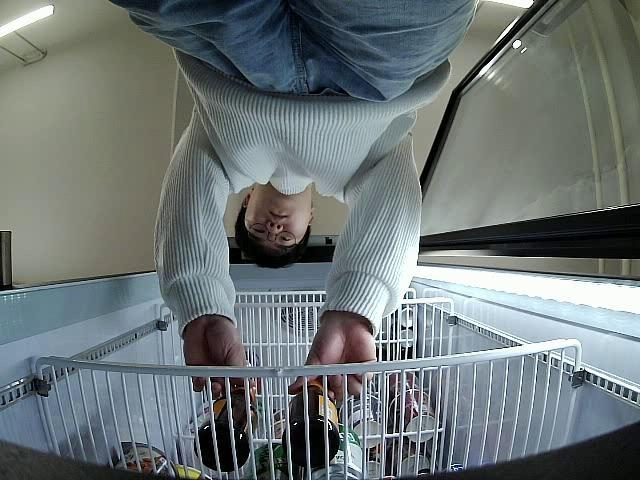17_vita500: (193, 386, 259, 473), (282, 380, 341, 469)
